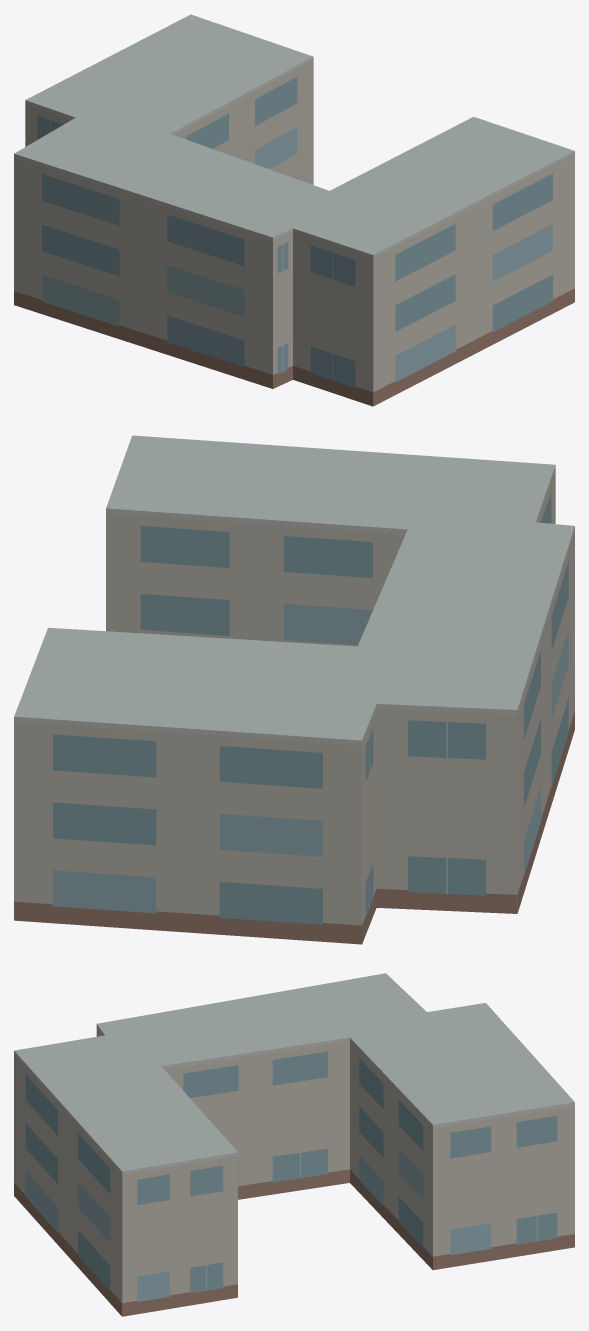
File: survey-upis-32998017.glb
The picture shows the model from 3 angles, top to bottom: view 1: azimuth 30°, elevation 25°; view 2: azimuth 150°, elevation 25°; view 3: azimuth 270°, elevation 25°; orthographic projection. The views are drawn at different scales.
Parts seen in each view (by area): view 1: survey-upis-32998017.tmp; view 2: survey-upis-32998017.tmp; view 3: survey-upis-32998017.tmp.
Part boxes in pixels (left/top/right/bottom): survey-upis-32998017.tmp: left=14, top=14, right=574, bottom=406; survey-upis-32998017.tmp: left=14, top=435, right=574, bottom=944; survey-upis-32998017.tmp: left=14, top=973, right=574, bottom=1316.
Size of the model in its own units: 31.03 by 10.6 by 37.09.
